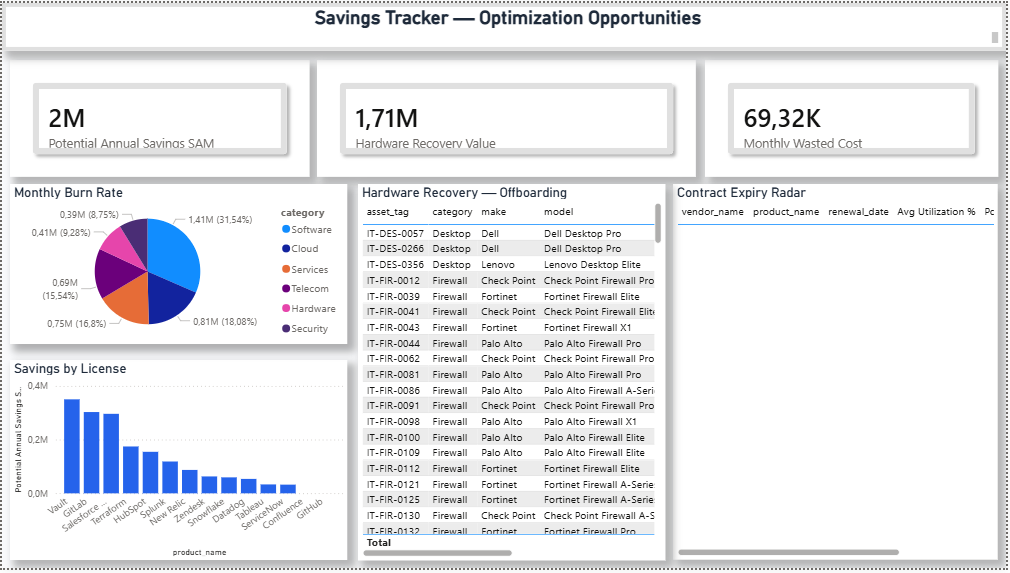

Layout of this report page (visuals, bound fields, positions):
{"tool":"powerbi","page":{"name":"Savings Tracker","canvas":[1280,720],"ordinal":5},"visuals":[{"type":"cardVisual","fields":{"Data":["_Measures.Potential Annual Savings SAM"]},"box":[10.2,72.7,382.5,149.2],"z":0},{"type":"cardVisual","fields":{"Data":["_Measures.Hardware Recovery Value"]},"box":[401.6,72.7,483.2,149.2],"z":1000},{"type":"cardVisual","fields":{"Data":["_Measures.Monthly Wasted Cost"]},"box":[896.3,72.7,373.5,149.2],"z":2000},{"type":"clusteredColumnChart","title":"Savings by License","fields":{"Category":["software_licenses.product_name"],"Y":["_Measures.Potential Annual Savings SAM"]},"box":[10.2,455.1,429.6,255],"z":3000},{"type":"pieChart","title":"Monthly Burn Rate","fields":{"Y":["_Measures.Total Spend Paid"],"Category":["vendors.category"]},"box":[10.2,230.8,429.6,204],"z":4000},{"type":"tableEx","title":"Contract Expiry Radar","fields":{"Values":["vendors.vendor_name","software_licenses.product_name","software_licenses.renewal_date","_Measures.Avg Utilization %","_Measures.Potential Annual Savings SAM"]},"box":[855.5,230.8,414.3,479.4],"z":5000},{"type":"textbox","title":"Savings Tracker — Optimization Opportunities","box":[0,0,1280,60.8],"z":6000},{"type":"tableEx","title":"Hardware Recovery — Offboarding","fields":{"Values":["hardware_assets.asset_tag","hardware_assets.category","hardware_assets.make","hardware_assets.model","Sum(hardware_assets.current_book_value)","employees.first_name","employees.last_name"]},"box":[453.3,231,392.1,479.5],"z":8000}]}

Visuals, with their boxes in screenshot pixels (x1, y1, x2, y2), scaled from the page's 1280x720 canvas onto the 1010x573 screenshot:
cardVisual - _Measures.Potential Annual Savings SAM: <bbox>8, 58, 310, 177</bbox>
cardVisual - _Measures.Hardware Recovery Value: <bbox>317, 58, 698, 177</bbox>
cardVisual - _Measures.Monthly Wasted Cost: <bbox>707, 58, 1002, 177</bbox>
"Savings by License" clusteredColumnChart: <bbox>8, 362, 347, 565</bbox>
"Monthly Burn Rate" pieChart: <bbox>8, 184, 347, 346</bbox>
"Contract Expiry Radar" tableEx: <bbox>675, 184, 1002, 565</bbox>
"Savings Tracker — Optimization Opportunities" textbox: <bbox>0, 0, 1009, 48</bbox>
"Hardware Recovery — Offboarding" tableEx: <bbox>358, 184, 667, 565</bbox>
